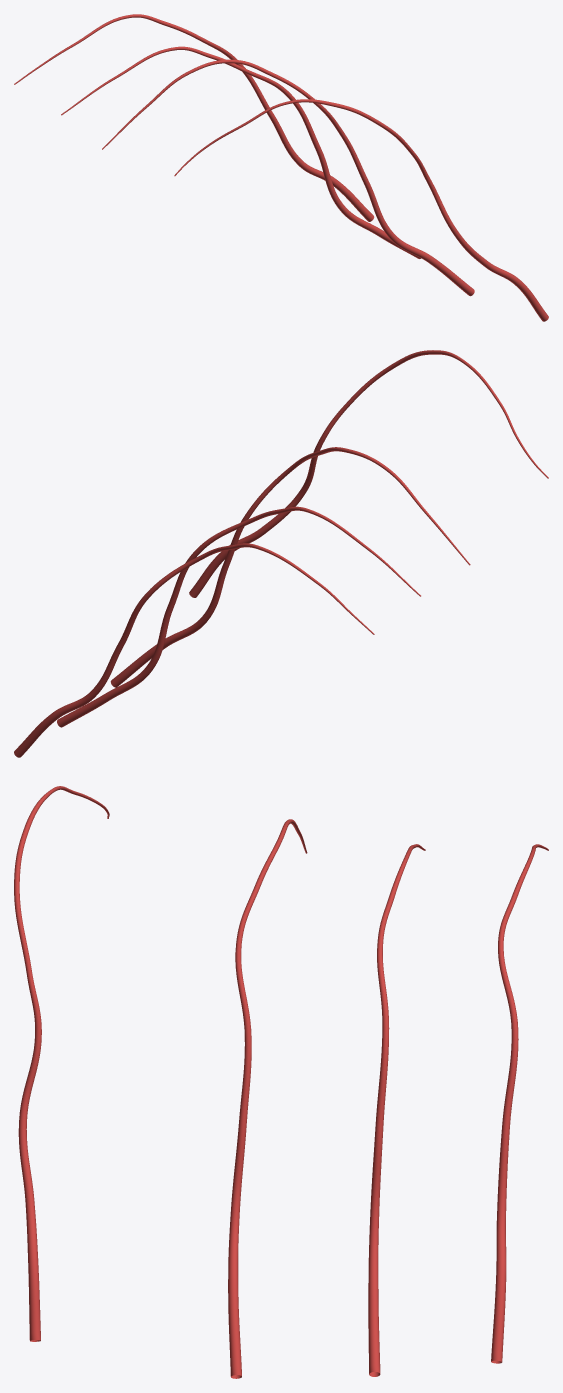
The picture shows the model from 3 angles, top to bottom: view 1: azimuth 30°, elevation 25°; view 2: azimuth 150°, elevation 25°; view 3: azimuth 270°, elevation 25°; orthographic projection. The views are drawn at different scales.
Parts seen in each view (by area): view 1: 右侧腰动脉; view 2: 右侧腰动脉; view 3: 右侧腰动脉.
Boxes of the visible parts, <box> form: 右侧腰动脉: <box>14,14,548,321</box>; 右侧腰动脉: <box>14,350,548,757</box>; 右侧腰动脉: <box>14,786,548,1378</box>.
Size of the model in its own units: 0.1463 by 0.1216 by 0.1392.
